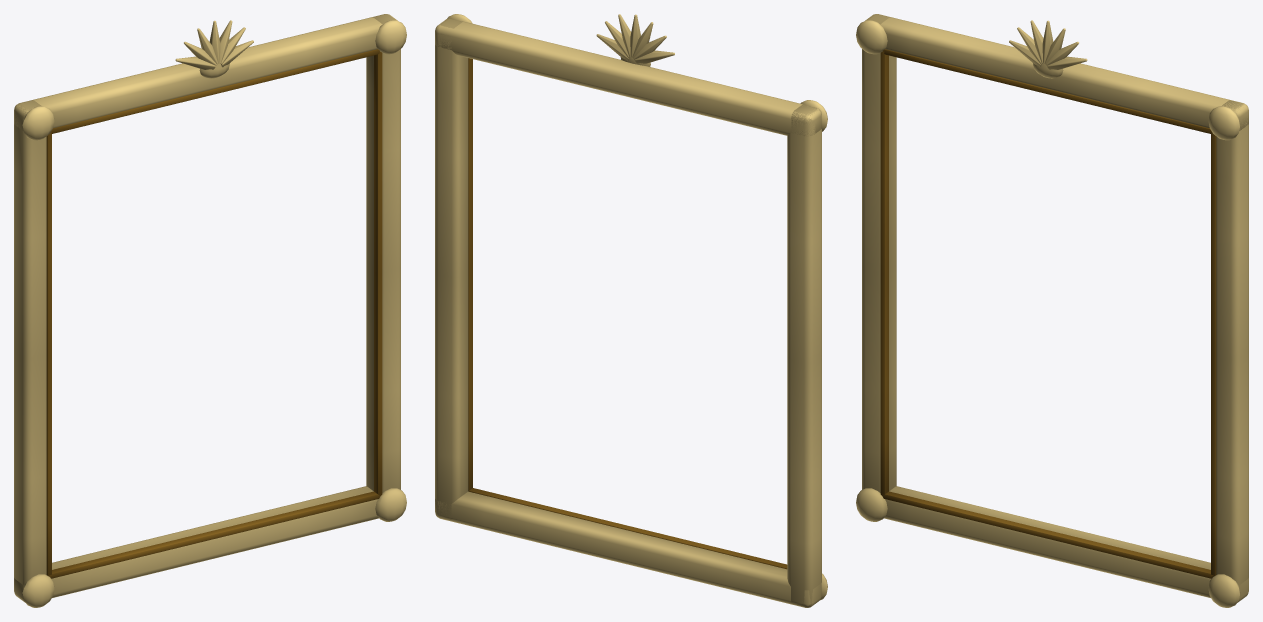
The model's file is obj_kit_gildframe.glb.
3 renders of one model, left to right at view 1: azimuth 30°, elevation 25°; view 2: azimuth 150°, elevation 25°; view 3: azimuth 330°, elevation 25°, orthographic.
Parts seen in each view (by area): view 1: Cube.001, Cube.005, Cube.004, Cube, Cube.007, Cube.002, Cube.003, Cube.006, Sphere.002, Sphere.003, Sphere, Sphere.001; view 2: Cube.001, Cube.005, Cube.004, Cube, Cube.007, Cube.002; view 3: Cube.005, Cube.001, Cube.004, Cube, Cube.003, Cube.002, Cube.007, Cube.006, Sphere.003, Sphere.002, Sphere.001, Sphere.
Boxes of the visible parts, x1,y1,x2,y2 form: Cube.001: (14,100,46,585); Cube.005: (366,14,400,492); Cube.004: (14,14,397,130); Cube: (14,486,378,602); Cube.007: (374,51,382,496); Cube.002: (49,491,380,578); Cube.003: (46,131,51,576); Cube.006: (51,49,379,133); Sphere.002: (22,106,54,140); Sphere.003: (375,20,406,54); Sphere: (22,574,54,607); Sphere.001: (375,488,406,521); Cube.001: (787,104,821,607); Cube.005: (435,18,468,519); Cube.004: (435,18,821,135); Cube: (435,491,821,607); Cube.007: (468,58,472,490); Cube.002: (468,488,787,569); Cube.005: (1216,100,1248,586); Cube.001: (862,14,896,492); Cube.004: (865,14,1248,130); Cube: (884,486,1248,602); Cube.003: (880,51,888,496); Cube.002: (882,491,1213,578); Cube.007: (1211,132,1216,577); Cube.006: (883,49,1211,133); Sphere.003: (1208,106,1240,140); Sphere.002: (856,20,887,54); Sphere.001: (1208,574,1240,607); Sphere: (856,488,887,521).
Size of the model in its own units: 1.22 by 1.65 by 0.105.
